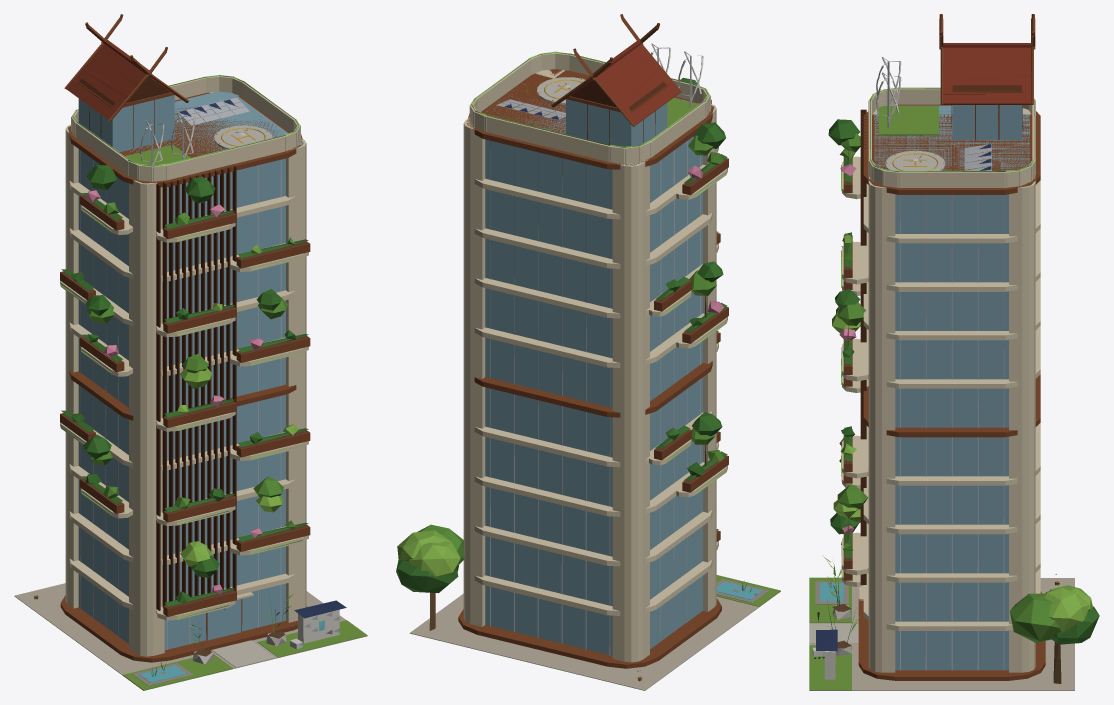
The model's file is home_4.glb.
The picture shows the model from 3 angles, left to right: view 1: azimuth 30°, elevation 25°; view 2: azimuth 150°, elevation 25°; view 3: azimuth 270°, elevation 25°; orthographic projection. The views are drawn at different scales.
Parts seen in each view (by area): view 1: body, windows; view 2: body, windows; view 3: body, windows.
Boxes of the visible parts, box(x1,y1,x2,y2) form: body: box(14, 14, 367, 690); windows: box(60, 74, 324, 645); body: box(396, 14, 780, 690); windows: box(471, 51, 727, 493); body: box(809, 14, 1099, 690); windows: box(812, 87, 1034, 659).
Bounding box in the file's own units: 17.29 × 39.23 × 17.38.
